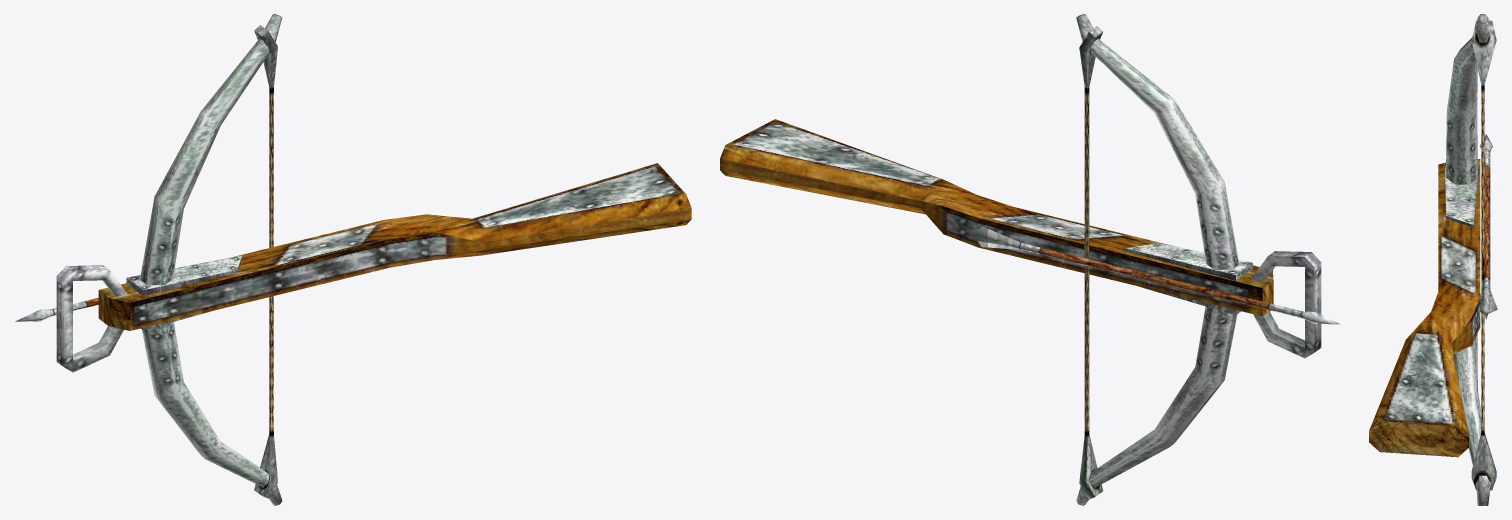
File: wp_arbalest15.glb
3 renders of one model, left to right at view 1: azimuth 30°, elevation 25°; view 2: azimuth 150°, elevation 25°; view 3: azimuth 270°, elevation 25°, orthographic.
Visible parts, largest first — view 1: wp_arbalest15; view 2: wp_arbalest15; view 3: wp_arbalest15.
Part boxes in pixels (x1=…): wp_arbalest15: x1=15, y1=14, x2=691, y2=505; wp_arbalest15: x1=720, y1=14, x2=1340, y2=505; wp_arbalest15: x1=1369, y1=14, x2=1497, y2=505.
Size of the model in its own units: 0.812 by 0.6035 by 0.1433.
Materials: 1 (1 with a texture image).
